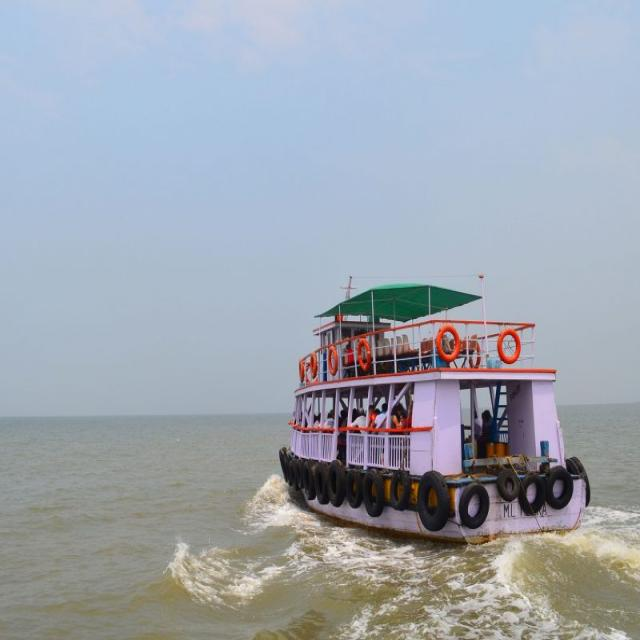houseboat: (282, 255, 590, 552)
